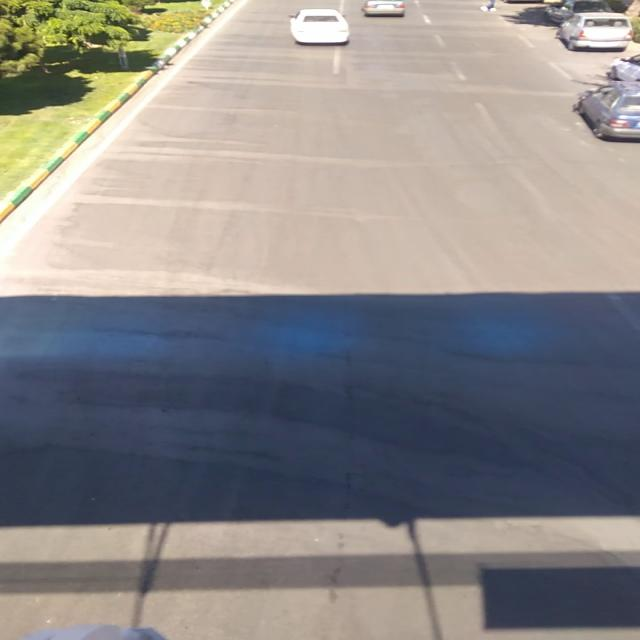car: (569, 83, 636, 139), (556, 12, 632, 48), (289, 7, 351, 43)
